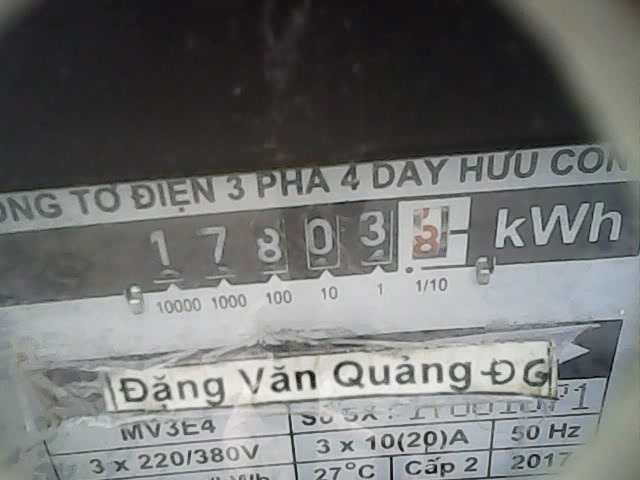phy_plate: (134, 194, 480, 299)
